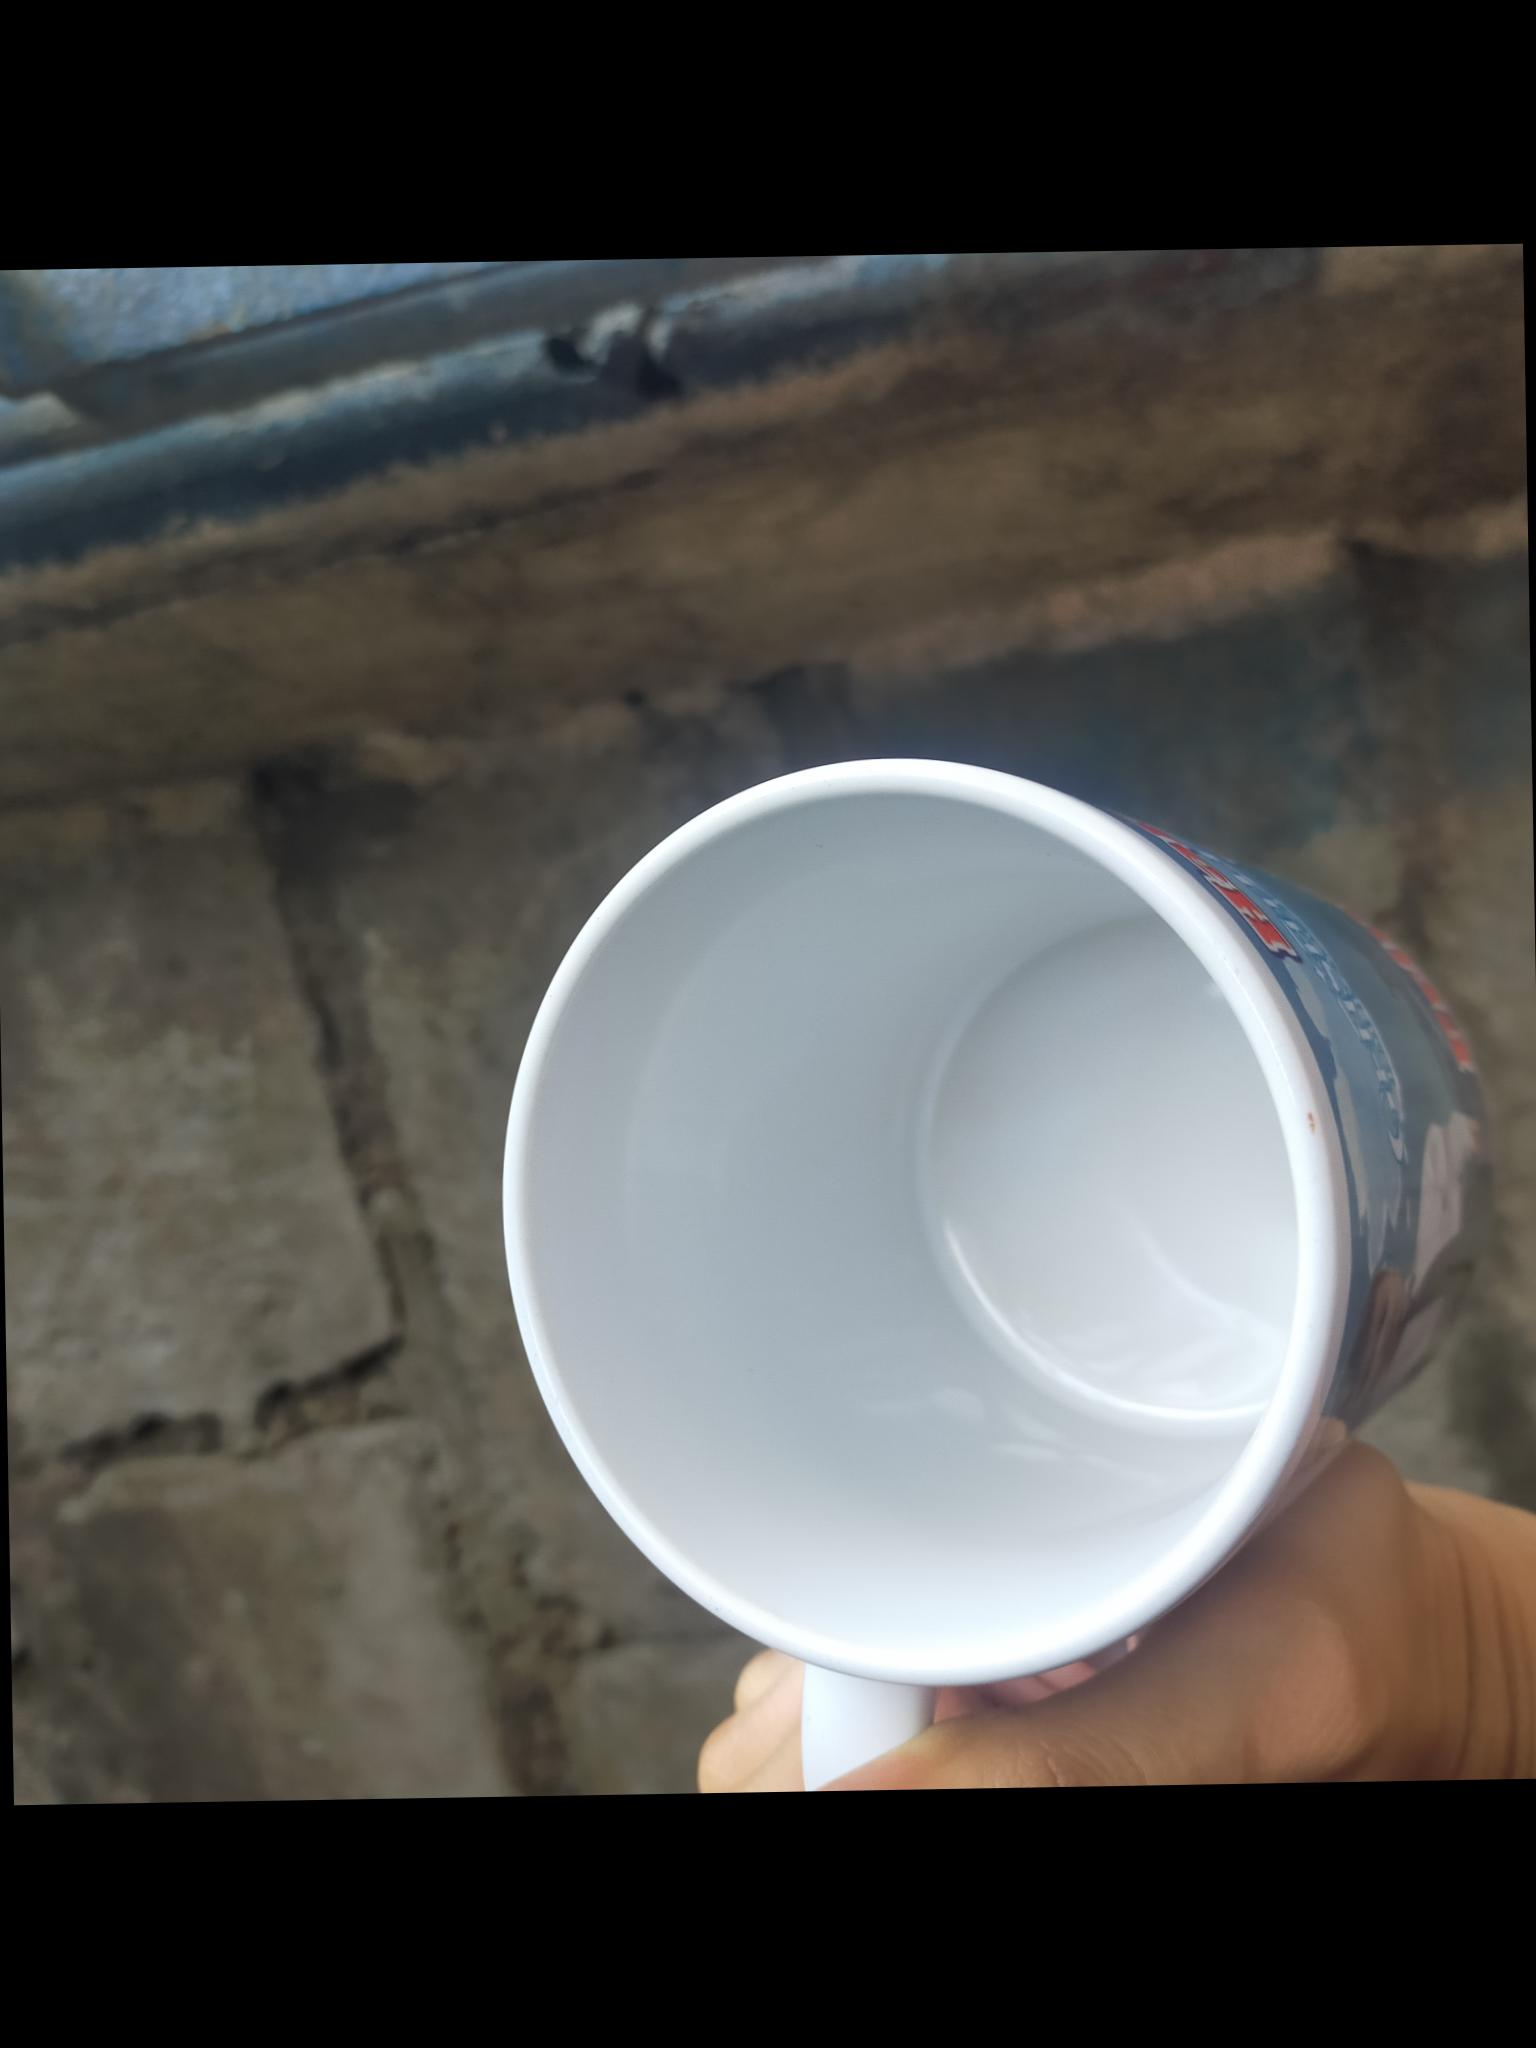Coffee Mug: (489, 743, 1496, 1796)
